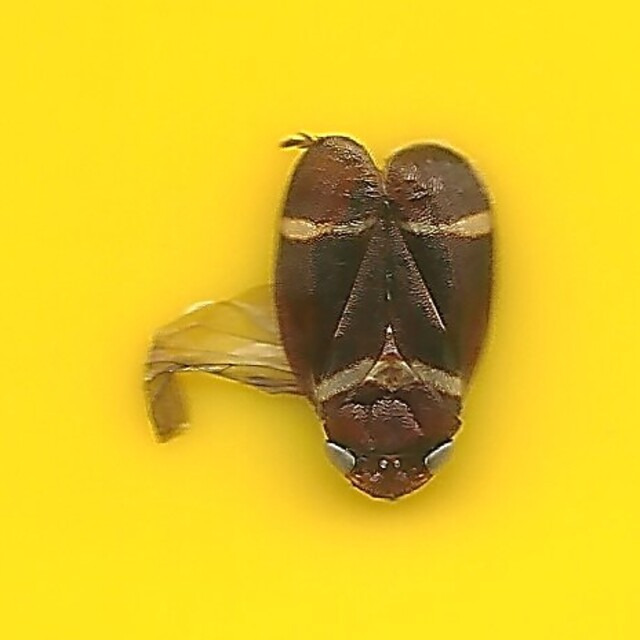Hemiptera: (138, 130, 502, 510)
